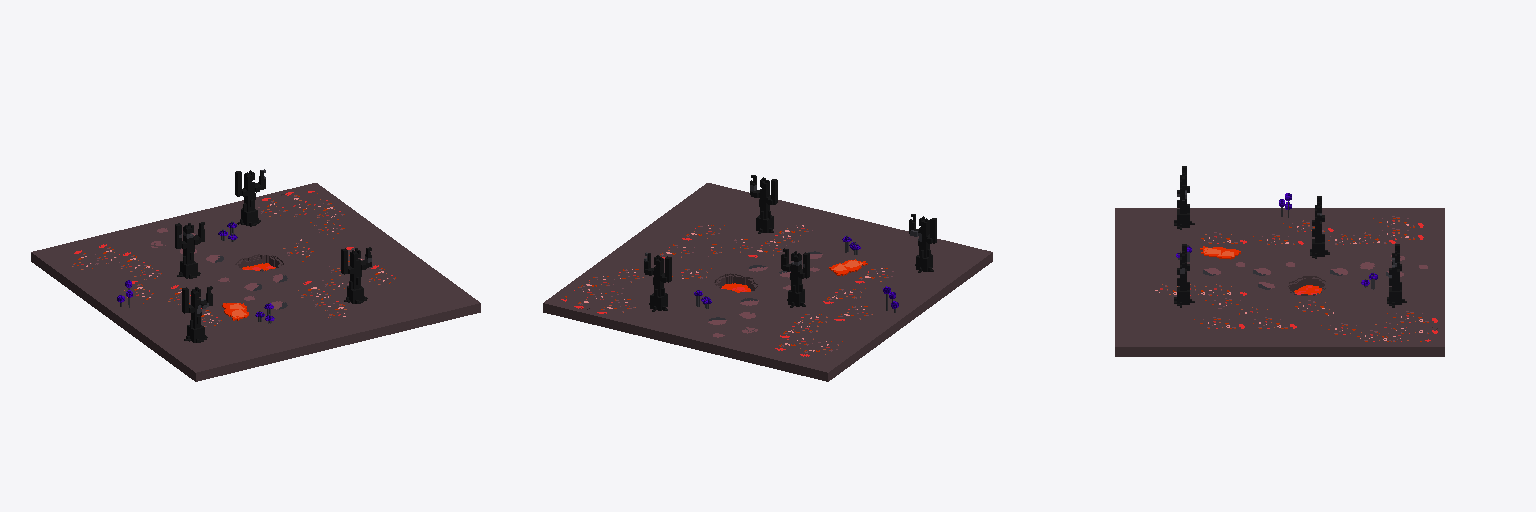
3 renders of one model, left to right at view 1: azimuth 30°, elevation 25°; view 2: azimuth 150°, elevation 25°; view 3: azimuth 270°, elevation 25°, orthographic.
Parts seen in each view (by area): view 1: Model; view 2: Model; view 3: Model.
Part boxes in pixels (x1,y1,x2,y2): Model: (31,169,480,381); Model: (543,175,992,381); Model: (1115,166,1444,356).
Size of the model in its own units: 32 by 6.62 by 32.
1 materials, 1 textured.